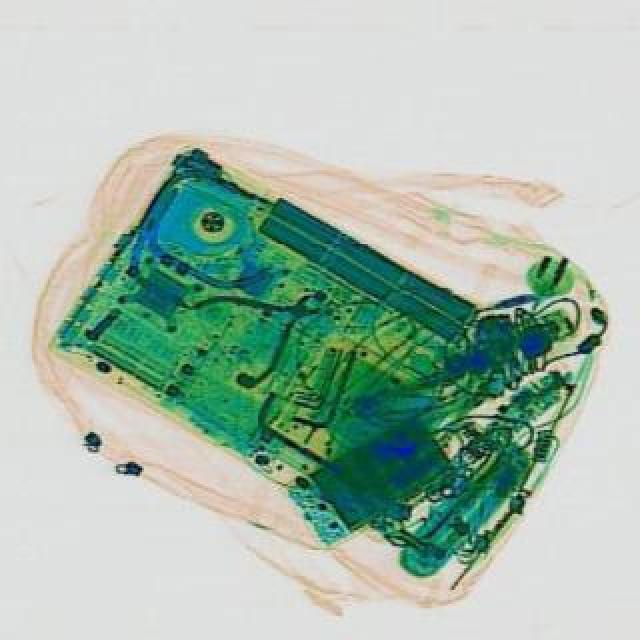wrench: (194, 264, 344, 396)
